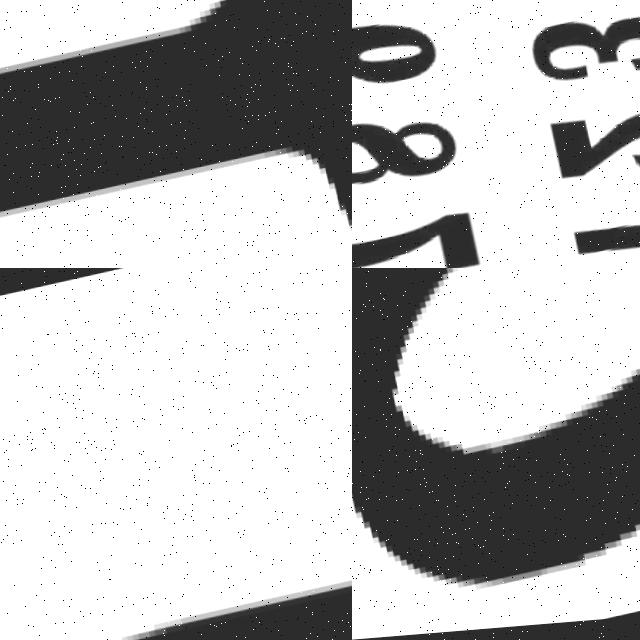1: (539, 198, 640, 268)
2: (529, 94, 640, 216)
3: (507, 0, 640, 117)
7: (352, 191, 494, 268)
8: (352, 91, 486, 216)
9: (9, 537, 352, 640), (352, 0, 462, 121)
O: (352, 268, 640, 595)
R: (0, 0, 352, 268)
